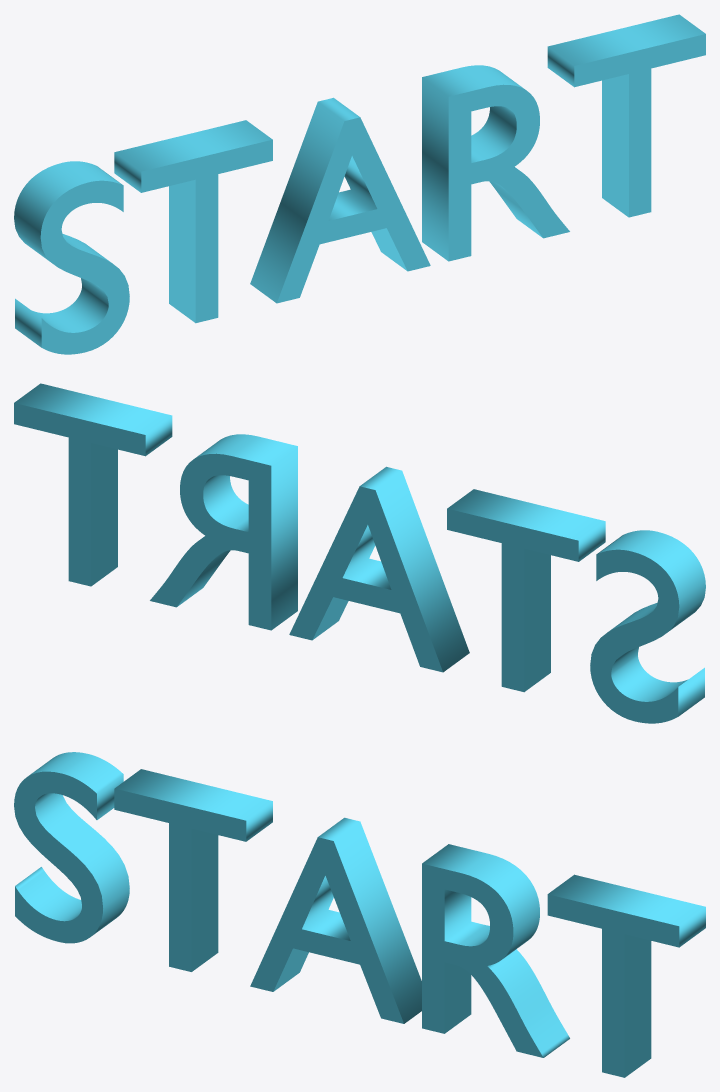
Rendered from console_start.fbx.
3 renders of one model, top to bottom at view 1: azimuth 30°, elevation 25°; view 2: azimuth 150°, elevation 25°; view 3: azimuth 330°, elevation 25°, orthographic.
Visible parts, largest first — view 1: Start; view 2: Start; view 3: Start.
Boxes of the visible parts, left/top/right/bottom form: Start: left=14, top=14, right=705, bottom=354; Start: left=14, top=383, right=705, bottom=723; Start: left=14, top=752, right=705, bottom=1077.
Size of the model in its own units: 0.478 by 0.1162 by 0.0332.
